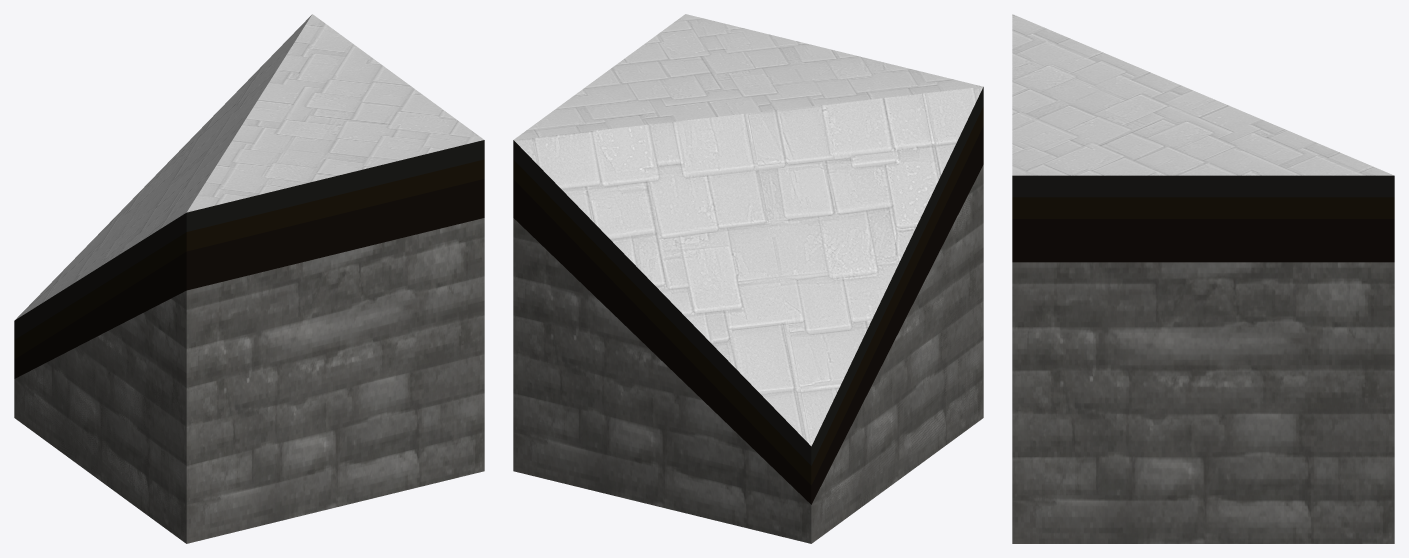
3 views of the same model, side by side, from view 1: azimuth 30°, elevation 25°; view 2: azimuth 150°, elevation 25°; view 3: azimuth 270°, elevation 25° (orthographic). The views are drawn at different scales.
Visible parts, largest first — view 1: 618; view 2: 618; view 3: 618.
Part boxes in pixels (x1,y1,x2,y2): 618: (14, 14, 484, 543); 618: (513, 14, 983, 543); 618: (1012, 14, 1394, 543).
Bounding box in the file's own units: 1.28 × 1.36 × 1.28.
3 materials, 2 textured.
